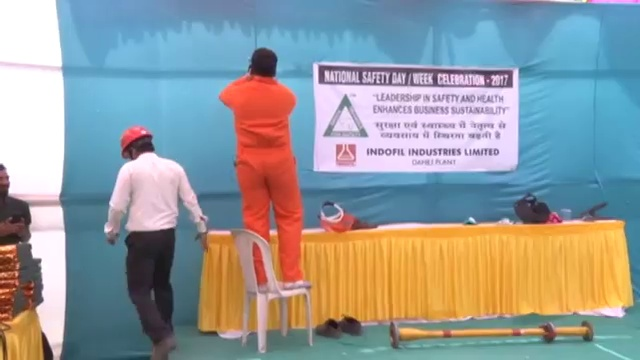helmet: (118, 125, 153, 158)
helmet_off: (247, 48, 280, 79)
helmet_on: (118, 127, 157, 158)
person: (105, 125, 209, 360), (220, 47, 314, 289), (1, 163, 31, 244)
